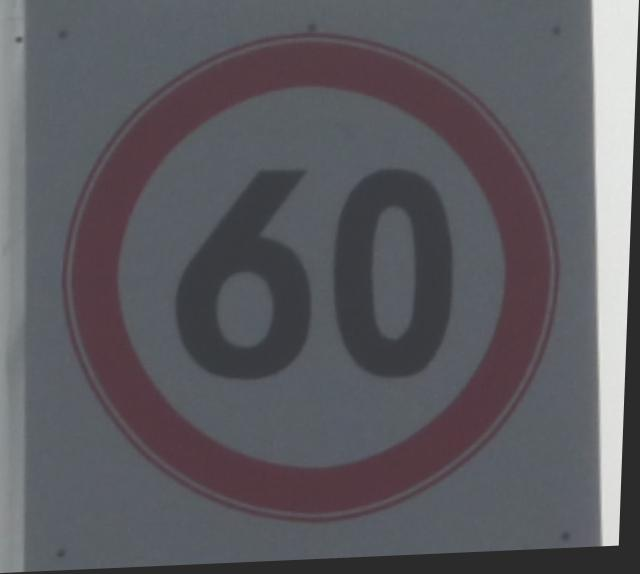limit60: (49, 16, 580, 539)
